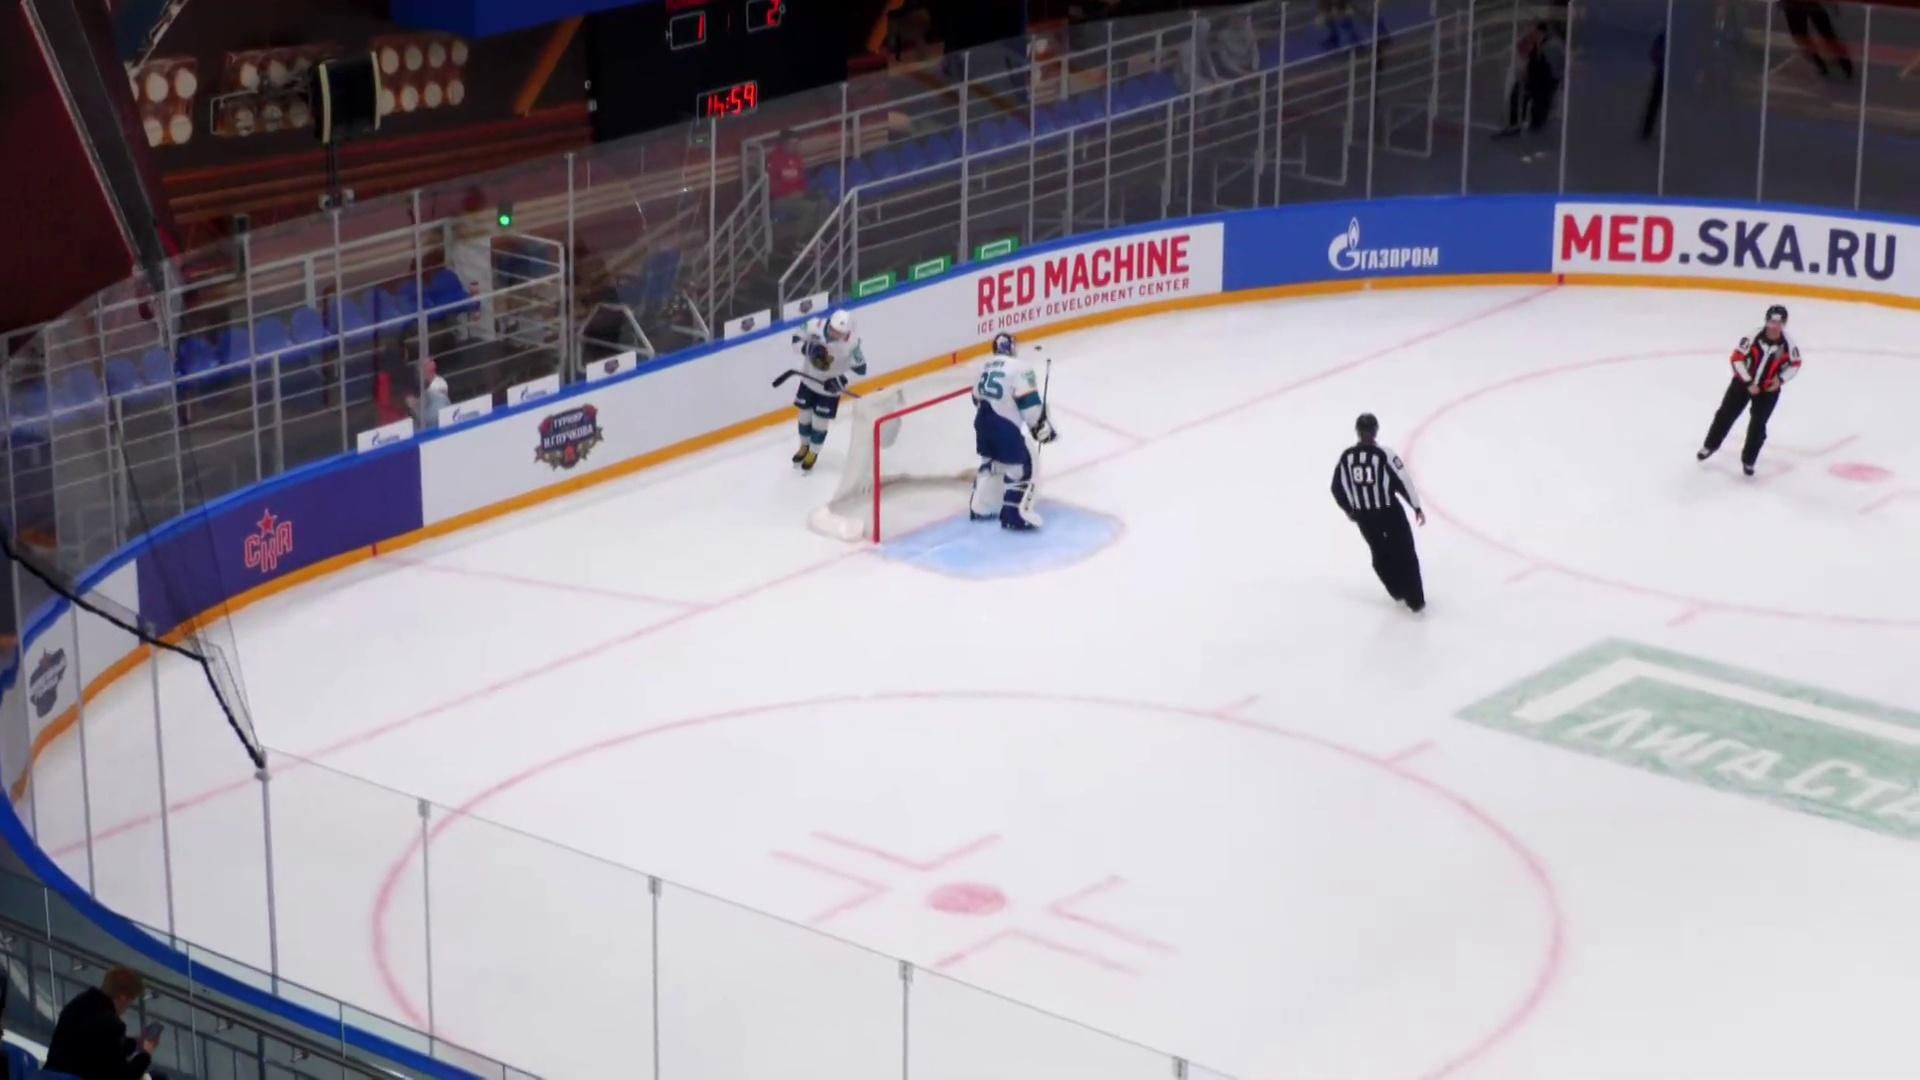ball: (1034, 345, 1043, 351)
